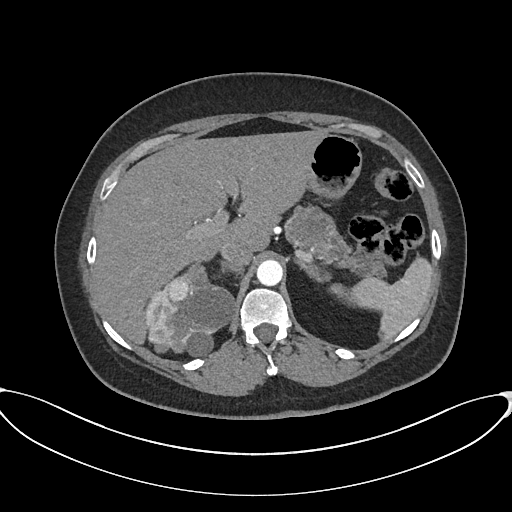Lesion: (161, 273, 194, 305)
